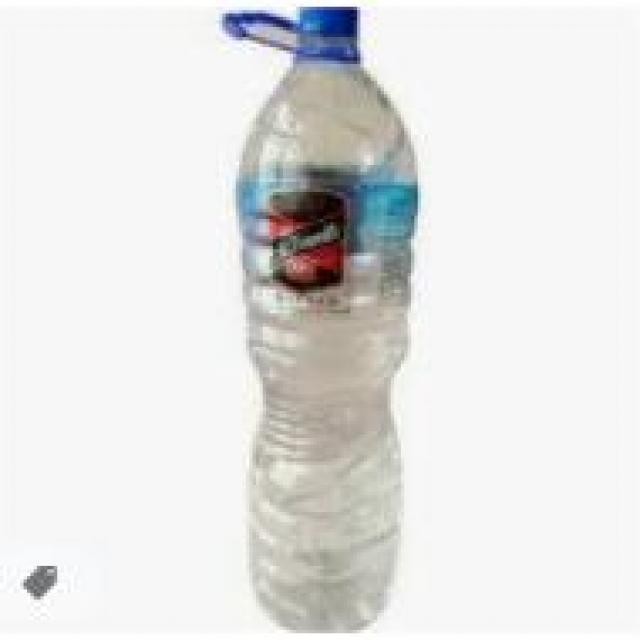bottle: (213, 7, 420, 609)
